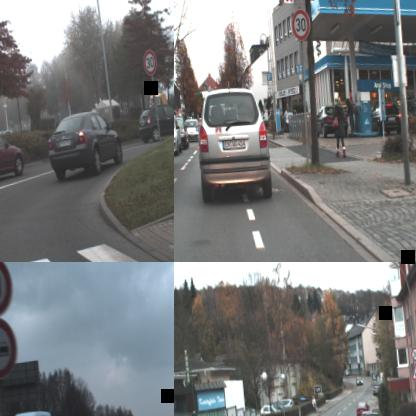SCHOOL CROSSING: (409, 360, 416, 380)
no overtaking -trucks-: (0, 315, 18, 381)
speed limit 120: (0, 262, 14, 318)
speed limit 30: (290, 7, 312, 42), (142, 48, 158, 76), (410, 346, 416, 362)
